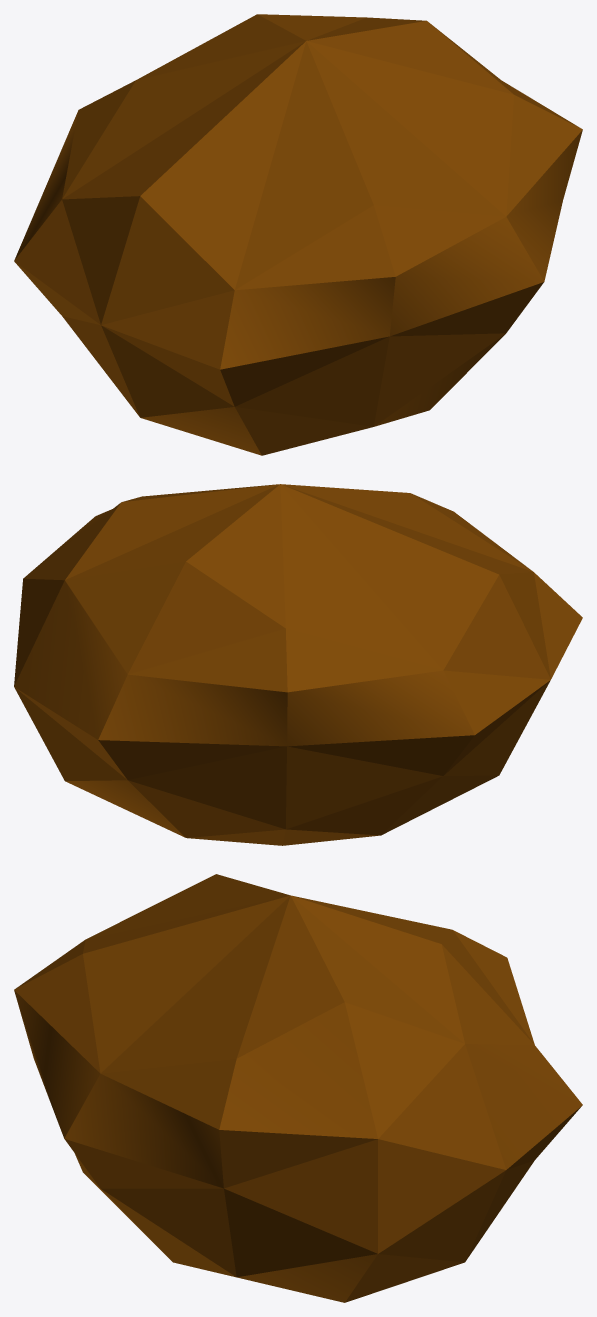
File: DyingBush_v2.fbx
The picture shows the model from 3 angles, top to bottom: view 1: azimuth 30°, elevation 25°; view 2: azimuth 150°, elevation 25°; view 3: azimuth 270°, elevation 25°; orthographic projection. The views are drawn at different scales.
Parts seen in each view (by area): view 1: pSphere8; view 2: pSphere8; view 3: pSphere8.
Boxes of the visible parts, x1,y1,x2,y2 form: pSphere8: [14, 14, 582, 455]; pSphere8: [14, 484, 582, 845]; pSphere8: [14, 874, 582, 1302].
Size of the model in its own units: 0.0665 by 0.0485 by 0.0673.
